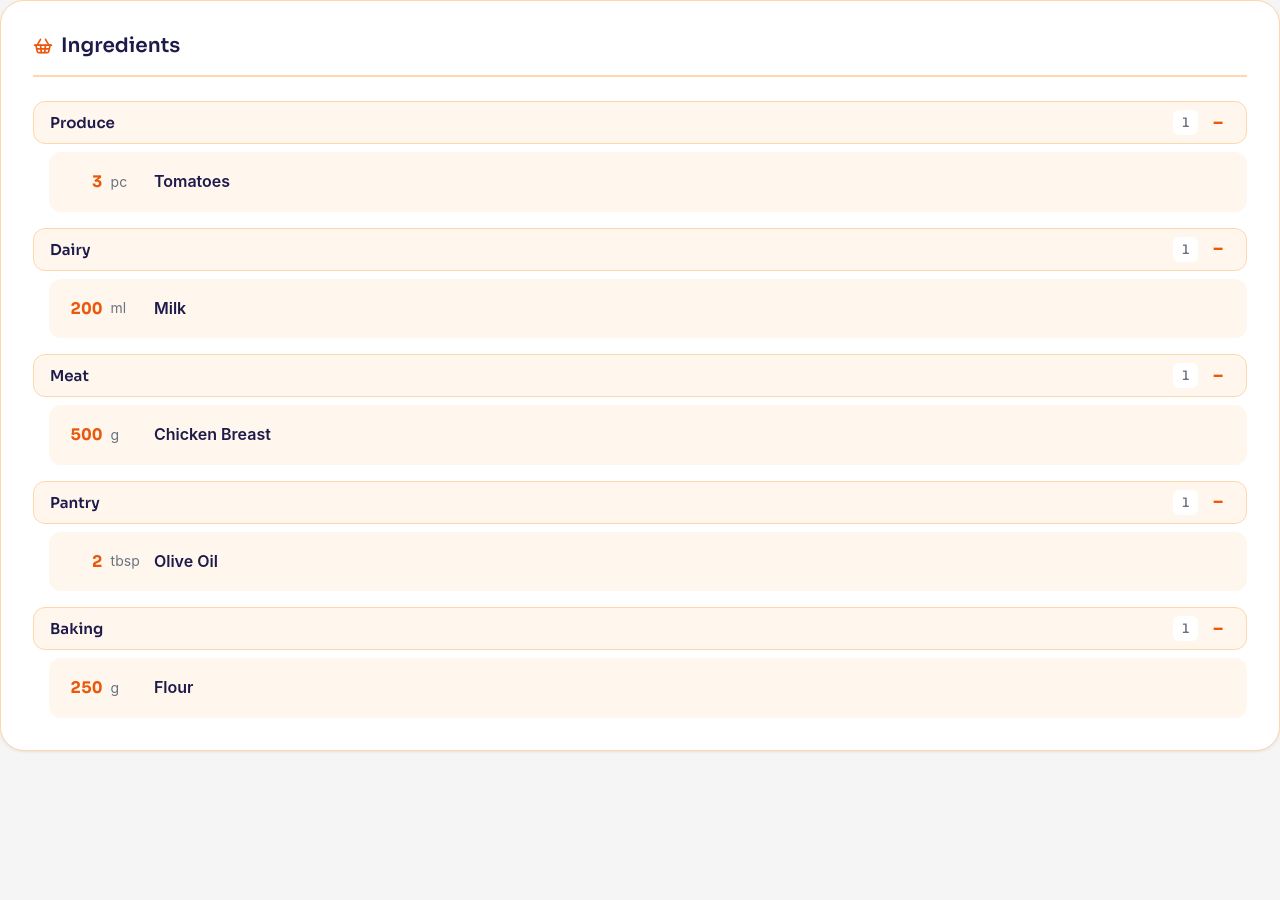
it: IngredientList › allows collapsing and expanding categories
The image size is (1280, 900).
Check: the text "Tomatoes" is shown, box [154,171,230,191]
Click to collapse
Click the button "Produce 1 −". click: point(82, 122)
box: [33,101,1247,144]
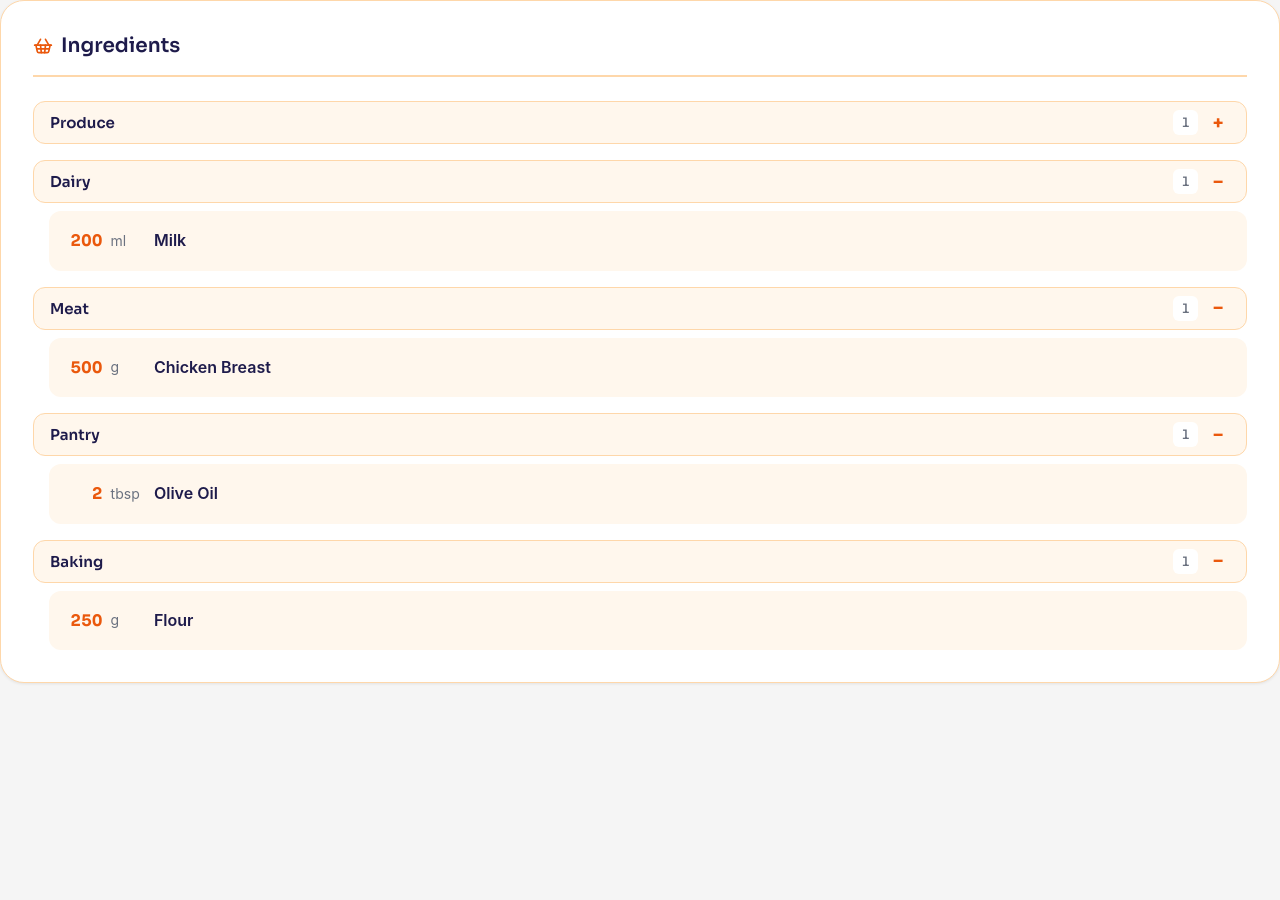
Check: the text "Tomatoes" is gone
